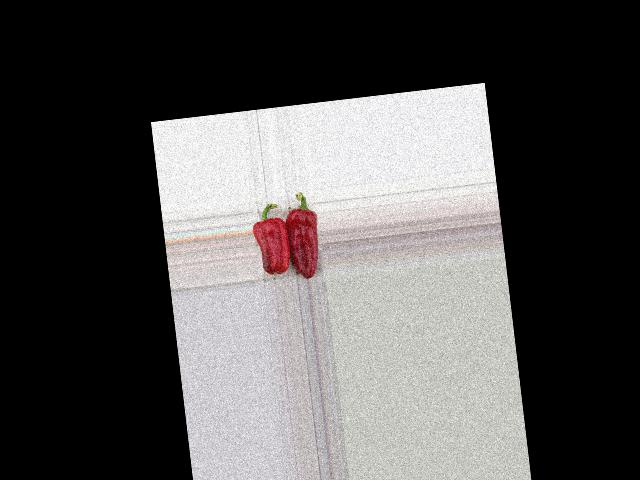bell_pepper: (281, 188, 323, 280)
